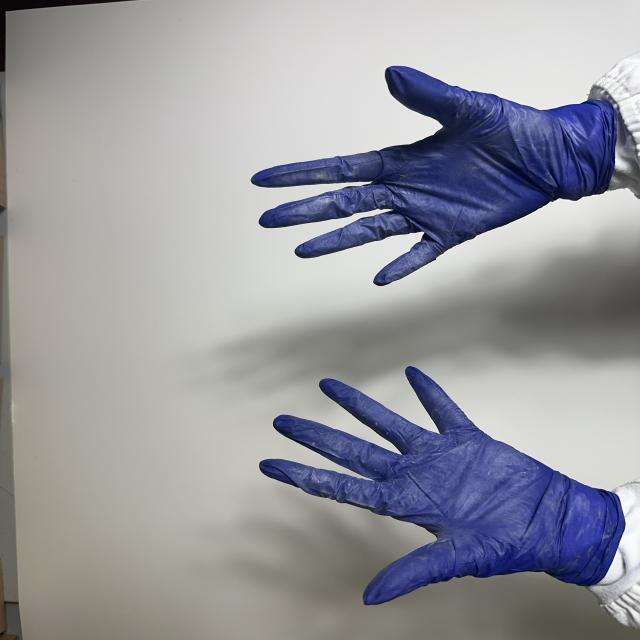gloves_contaminated: (260, 367, 624, 604), (252, 67, 616, 285)
